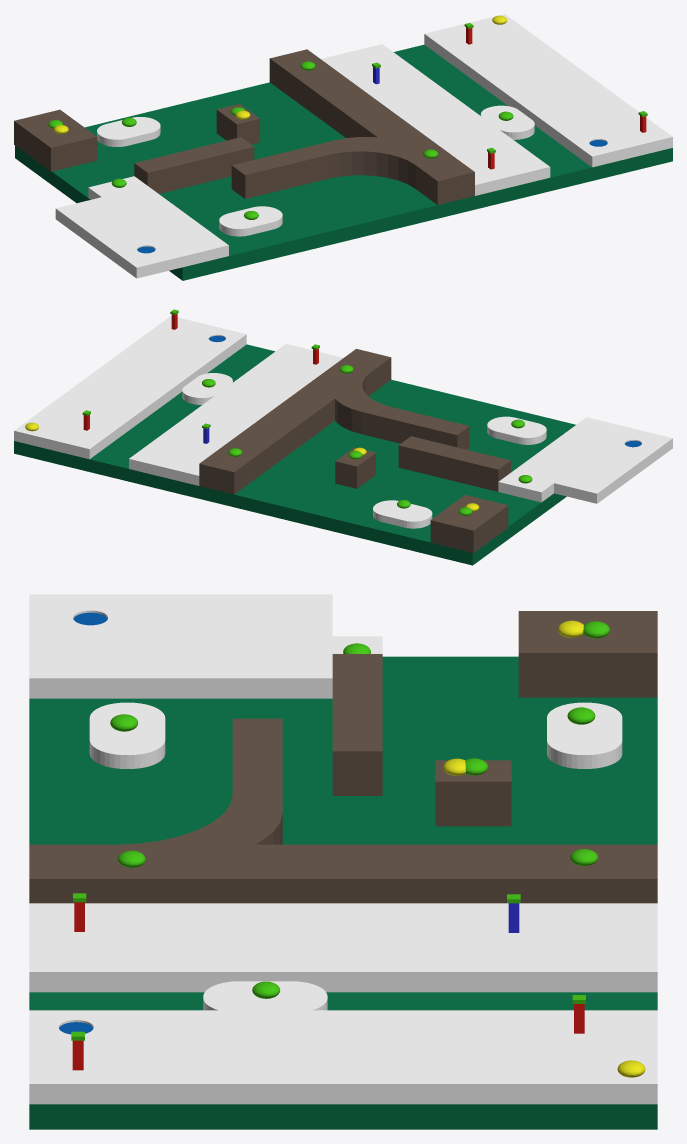
File: level3.fbx
3 renders of one model, top to bottom at view 1: azimuth 30°, elevation 25°; view 2: azimuth 150°, elevation 25°; view 3: azimuth 270°, elevation 25°, orthographic. The views are drawn at different scales.
Visible parts, largest first — view 1: 污染池, 障碍物, 冰面, 冰面.003, 冰面.001, 障碍物.001, 障碍物.003, 移动浮冰, 移动浮冰.001, 障碍物.002, 移动浮冰.003, 冰面.002; view 2: 污染池, 冰面, 障碍物, 冰面.003, 冰面.001, 障碍物.001, 障碍物.003, 移动浮冰.001, 移动浮冰, 障碍物.002, 冰面.002, 移动浮冰.003; view 3: 污染池, 冰面, 冰面.003, 障碍物, 冰面.001, 障碍物.003, 障碍物.001, 障碍物.002, 移动浮冰, 移动浮冰.001, 移动浮冰.003.
Part boxes in pixels (left/top/right/bottom): 污染池: left=15, top=44, right=672, bottom=280; 障碍物: left=231, top=49, right=474, bottom=204; 冰面: left=424, top=14, right=672, bottom=167; 冰面.003: left=321, top=44, right=550, bottom=195; 冰面.001: left=55, top=186, right=228, bottom=278; 障碍物.001: left=134, top=137, right=254, bottom=193; 障碍物.003: left=14, top=109, right=97, bottom=171; 移动浮冰: left=219, top=206, right=282, bottom=236; 移动浮冰.001: left=97, top=117, right=160, bottom=146; 障碍物.002: left=216, top=104, right=259, bottom=144; 移动浮冰.003: left=480, top=105, right=534, bottom=139; 冰面.002: left=88, top=176, right=147, bottom=199; 污染池: left=14, top=344, right=575, bottom=565; 冰面: left=14, top=316, right=246, bottom=459; 障碍物: left=199, top=349, right=469, bottom=494; 冰面.003: left=129, top=344, right=343, bottom=485; 冰面.001: left=511, top=417, right=672, bottom=503; 障碍物.001: left=398, top=436, right=510, bottom=491; 障碍物.003: left=430, top=494, right=508, bottom=552; 移动浮冰.001: left=373, top=500, right=432, bottom=528; 移动浮冰: left=487, top=416, right=546, bottom=444; 障碍物.002: left=335, top=447, right=375, bottom=488; 冰面.002: left=498, top=473, right=553, bottom=502; 移动浮冰.003: left=182, top=373, right=232, bottom=404; 污染池: left=29, top=656, right=657, bottom=1129; 冰面: left=29, top=1010, right=657, bottom=1104; 冰面.003: left=29, top=903, right=657, bottom=992; 障碍物: left=29, top=718, right=657, bottom=903; 冰面.001: left=29, top=594, right=332, bottom=698; 障碍物.003: left=518, top=611, right=657, bottom=697; 障碍物.001: left=332, top=654, right=382, bottom=795; 障碍物.002: left=435, top=760, right=511, bottom=826; 移动浮冰: left=89, top=702, right=165, bottom=768; 移动浮冰.001: left=547, top=702, right=622, bottom=768; 移动浮冰.003: left=203, top=981, right=327, bottom=1010.
Bounding box in the file's own units: 5170 × 397 × 2803.
